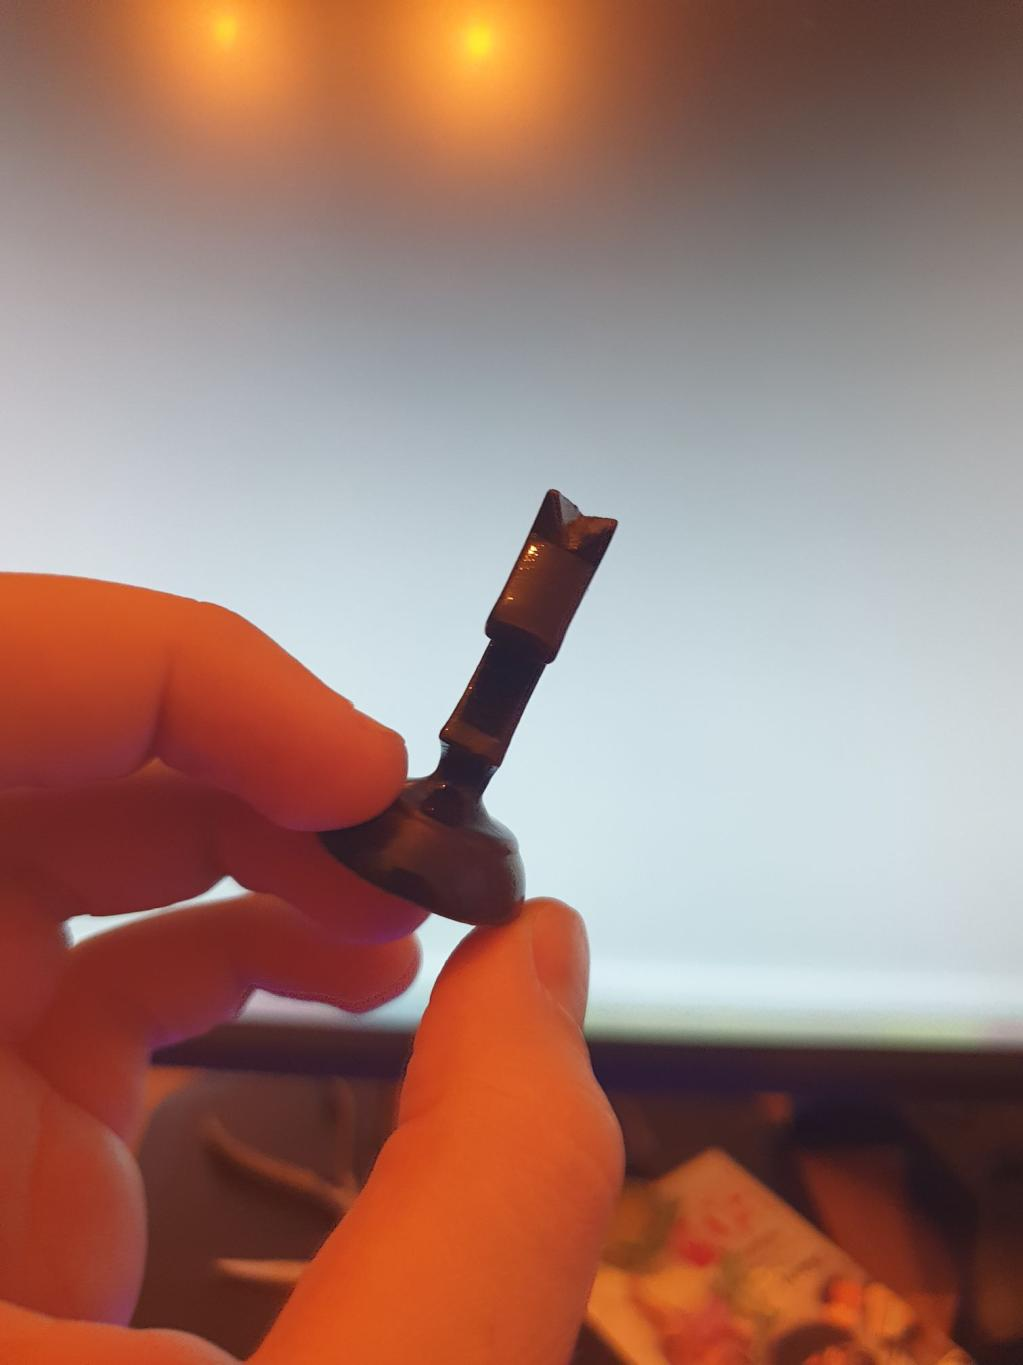bknight: (312, 484, 622, 928)
